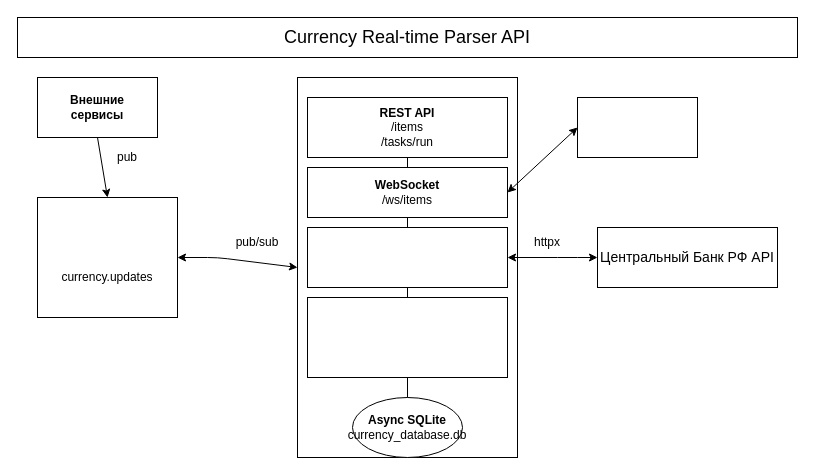
Some shapes in this 815 by 475 pixel diagram are drawn without their labels. The shapes that lost their labels are listed below. From the top down, each one's box as (x1, y1, x2, y2) in pixels, then its label:
(576, 96, 698, 158): WebSocket Клиенты
(36, 196, 178, 318): NATS Server
(306, 226, 508, 288): Фоновая задача • Парсинг ЦБ РФ • Каждые 2 мин
(306, 296, 508, 378): NATS Handler • Подписка: currency.updates • Обновление БД • Рассылка в WebSocket
